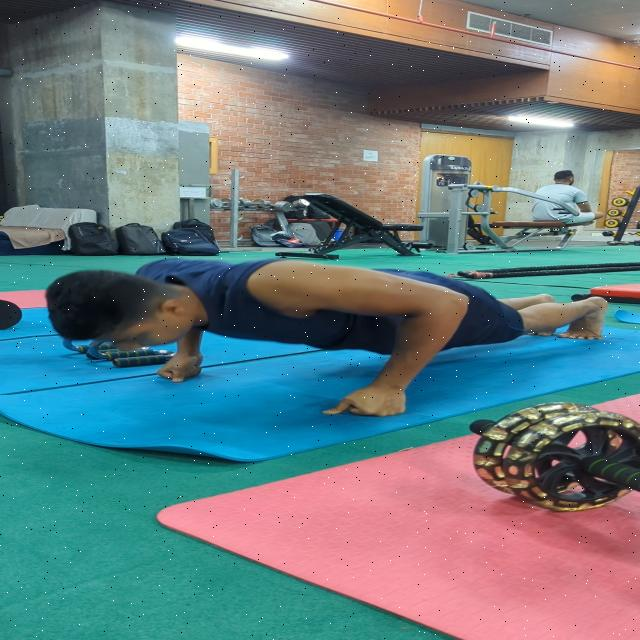Normal_PushUps: (15, 252, 631, 420)
